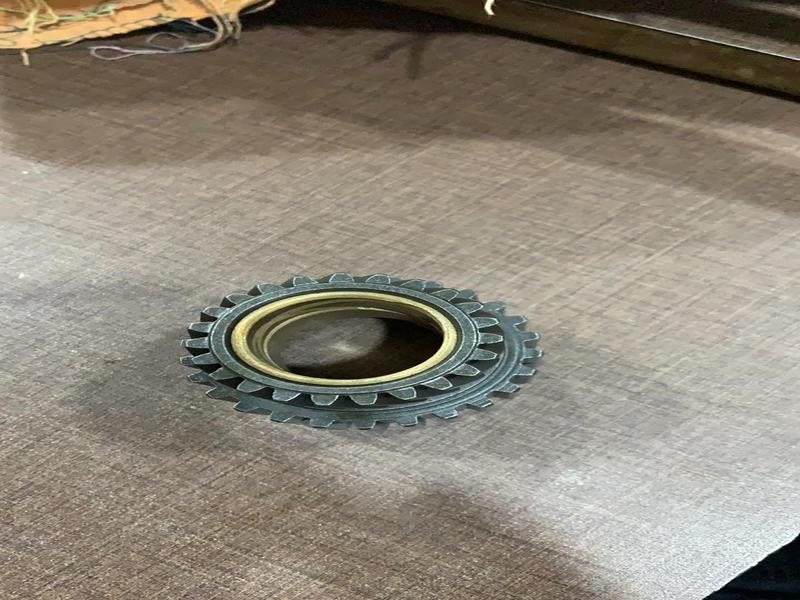engine gear alfa: (187, 262, 540, 444)
